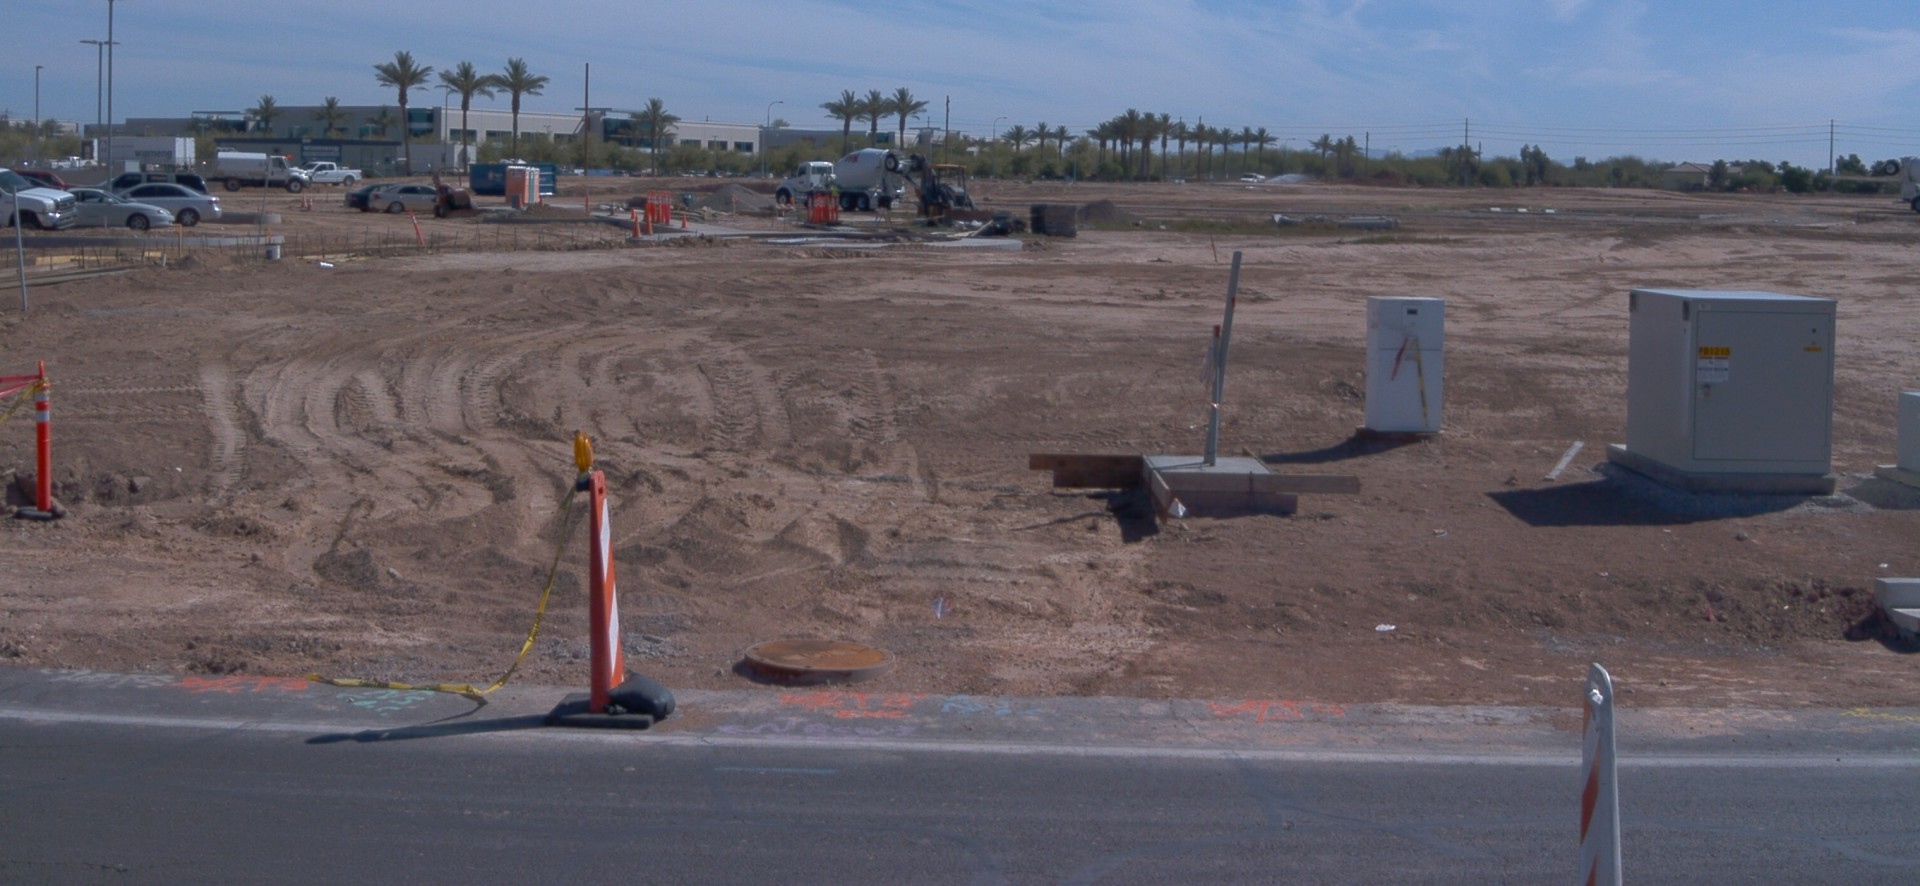TYPE_PEDESTRIAN: (831, 178, 843, 202)
TYPE_VEHICLE: (774, 146, 922, 213), (0, 165, 83, 230), (114, 182, 224, 228), (64, 188, 176, 231), (208, 149, 309, 194), (913, 160, 980, 226), (93, 129, 198, 170), (11, 135, 97, 170), (429, 163, 478, 221), (364, 180, 441, 214), (92, 177, 210, 199), (1884, 156, 1920, 221), (346, 177, 392, 213), (14, 168, 83, 191), (305, 160, 367, 184), (24, 176, 58, 188), (1239, 171, 1267, 185), (96, 176, 111, 186)
